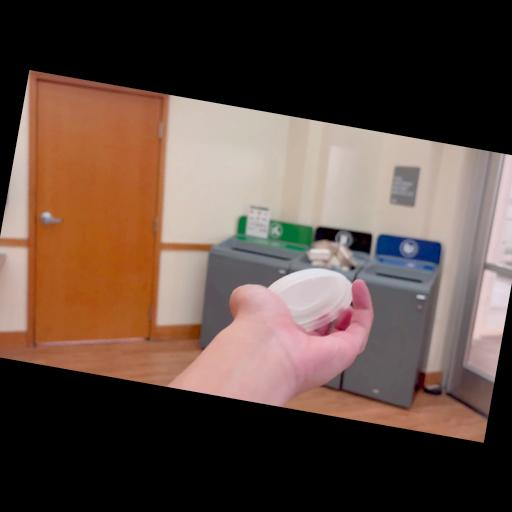lp_cup_lids: (252, 256, 357, 338)
